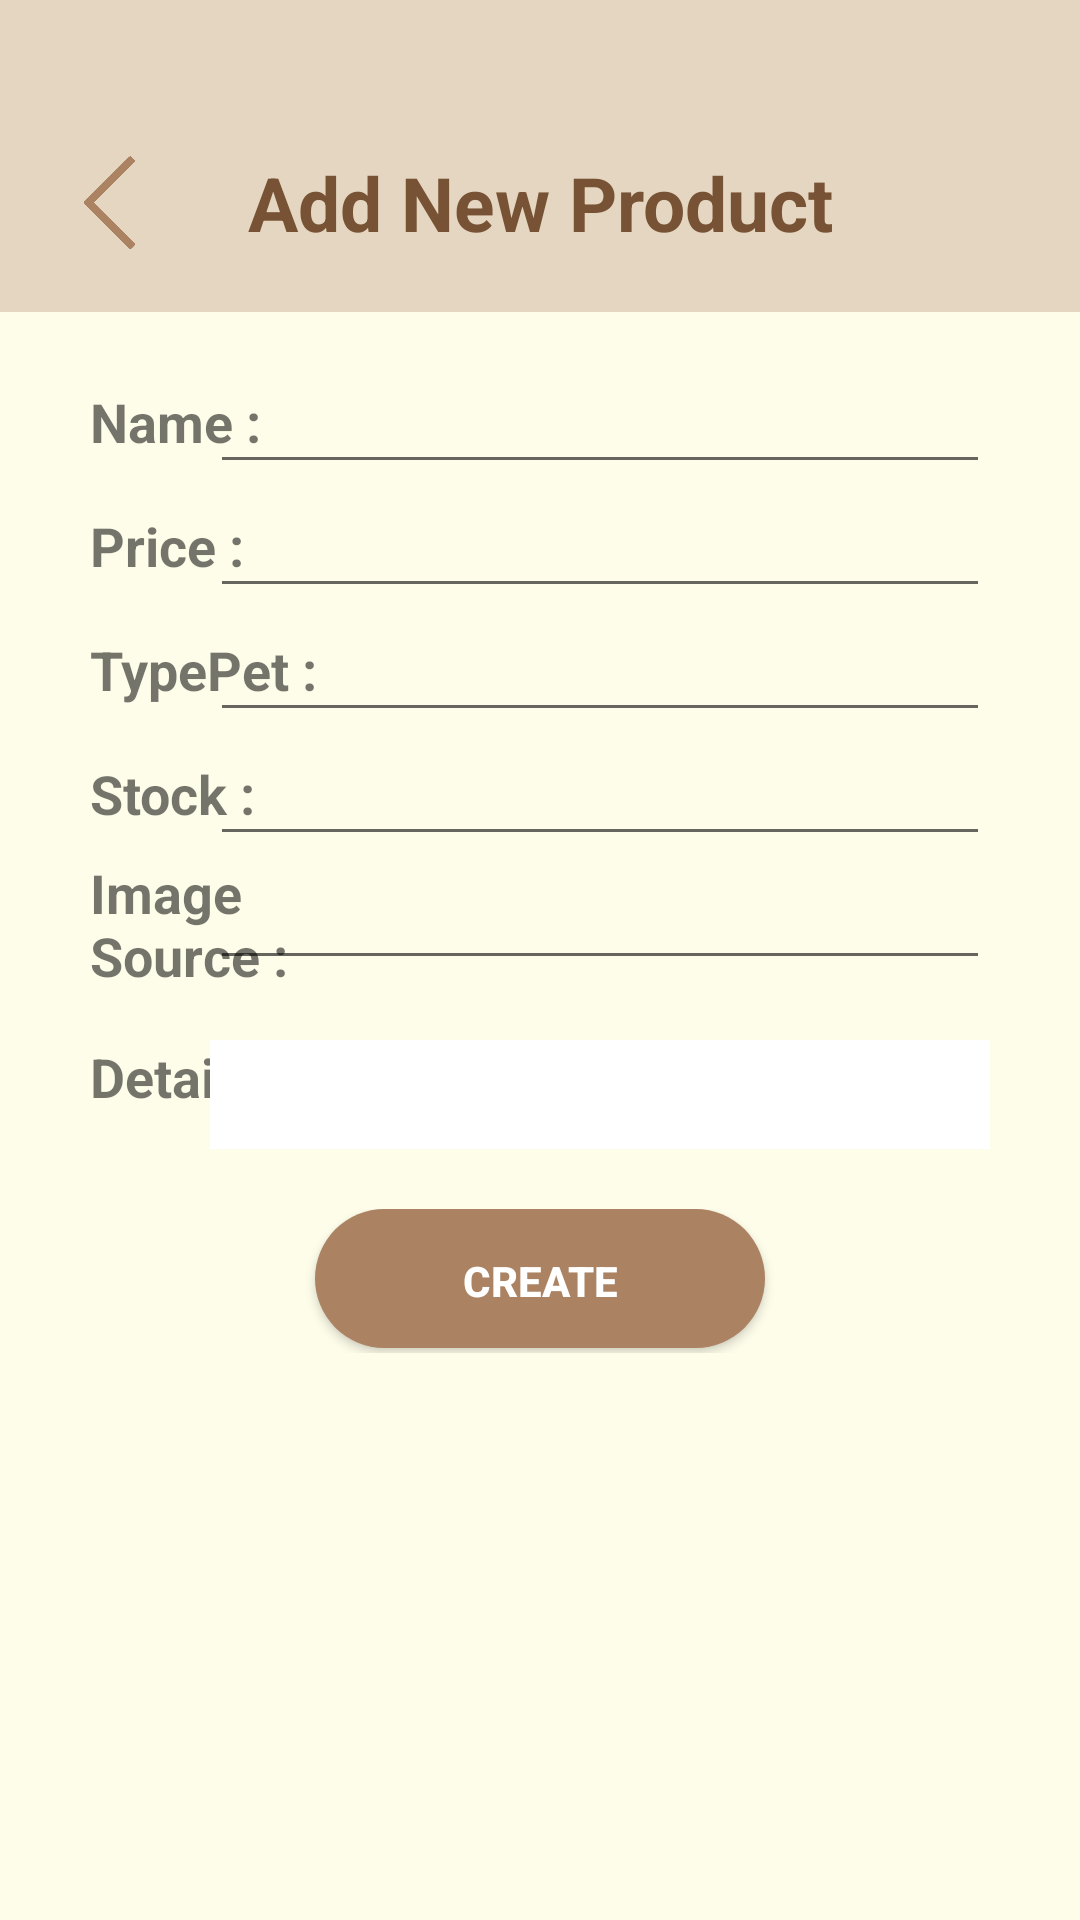

Where to tap for icons on this 1080x1920 app screen, as (x=x, y=y):
back: (x=109, y=202)
